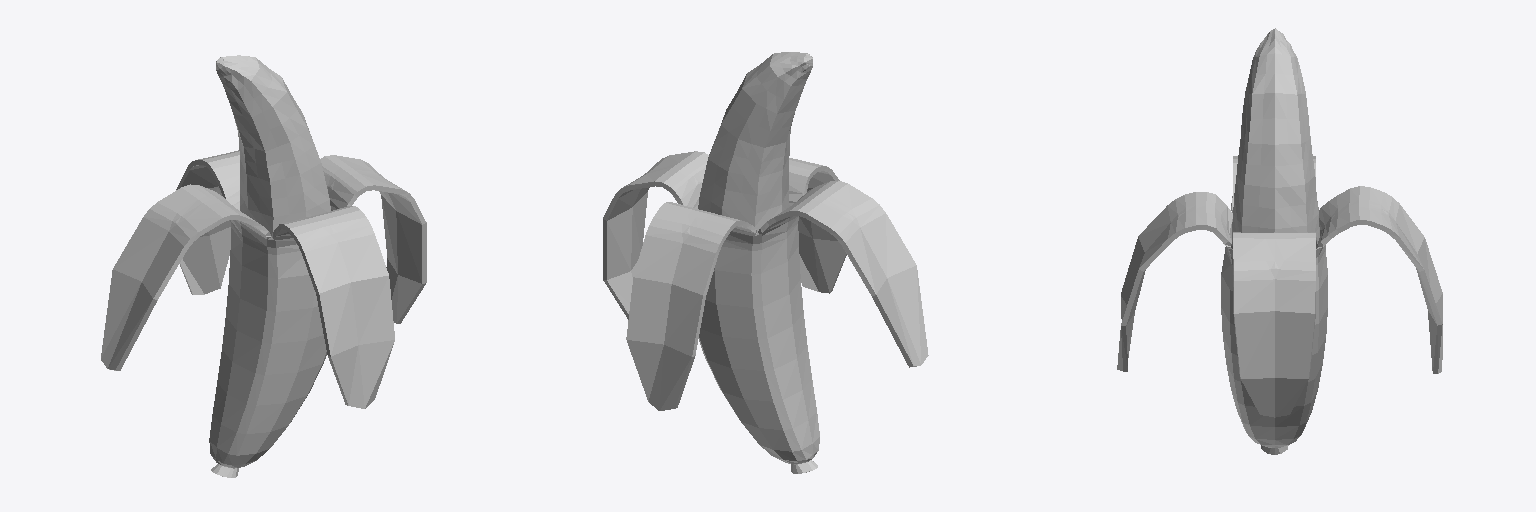
The model's file is banana.obj.
3 renders of one model, left to right at view 1: azimuth 30°, elevation 25°; view 2: azimuth 150°, elevation 25°; view 3: azimuth 270°, elevation 25°, orthographic.
Visible parts, largest first — view 1: banana; view 2: banana; view 3: banana.
Boxes of the visible parts, <box> form: banana: <box>101,55,426,477</box>; banana: <box>603,52,928,473</box>; banana: <box>1117,28,1442,454</box>.
Bounding box in the file's own units: 9.66 × 12.85 × 9.03.